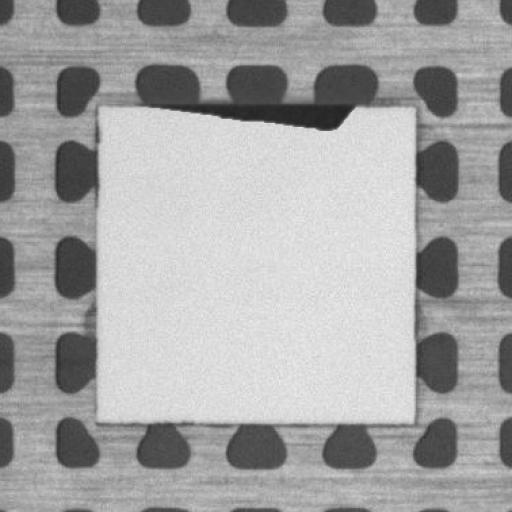DIE_BROKEN: (144, 95, 359, 135)
